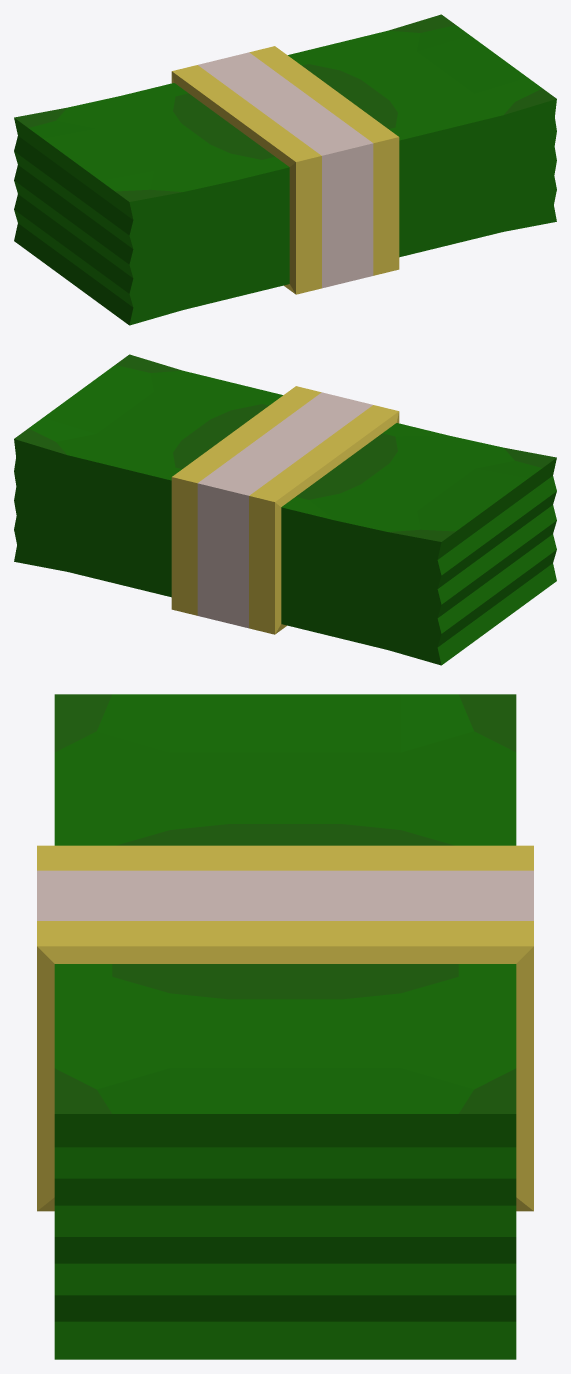
Rendered from money.dae.
The picture shows the model from 3 angles, top to bottom: view 1: azimuth 30°, elevation 25°; view 2: azimuth 150°, elevation 25°; view 3: azimuth 270°, elevation 25°; orthographic projection. The views are drawn at different scales.
Parts seen in each view (by area): view 1: Cube; view 2: Cube; view 3: Cube.
Boxes of the visible parts, <box> form: Cube: <box>14,14,556,325</box>; Cube: <box>14,354,556,665</box>; Cube: <box>37,694,533,1359</box>.
Bounding box in the file's own units: 2 × 1.01 × 0.5927.
